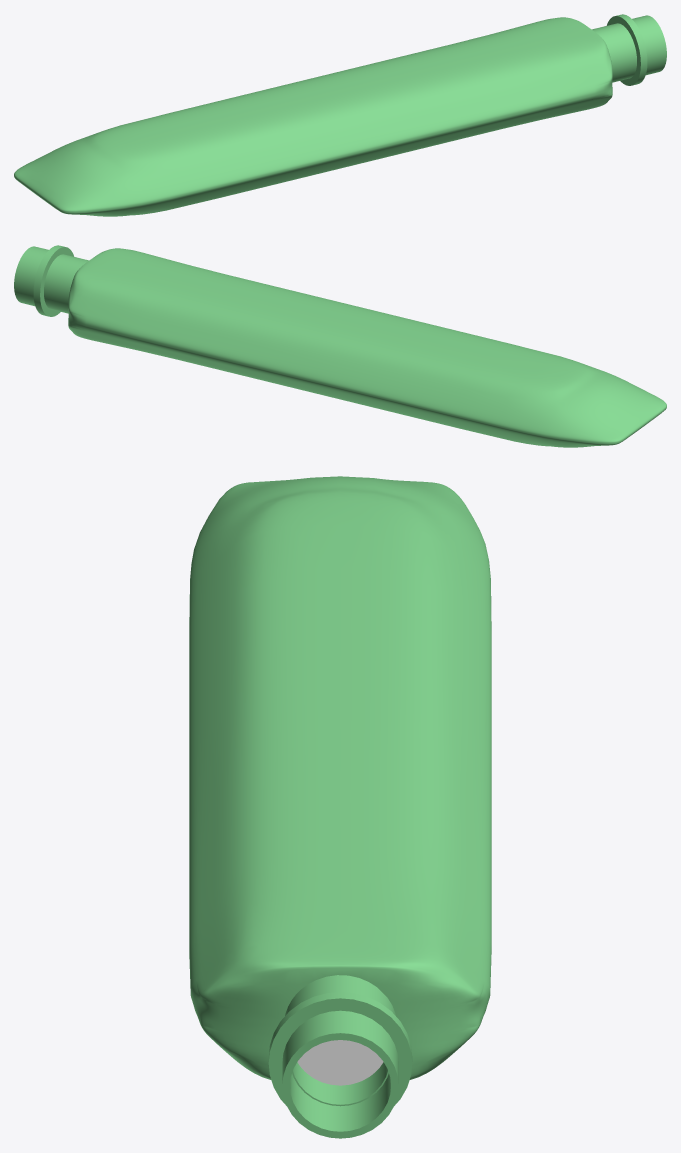
Rendered from 222_でんぷんのり開.glb.
The picture shows the model from 3 angles, top to bottom: view 1: azimuth 30°, elevation 25°; view 2: azimuth 150°, elevation 25°; view 3: azimuth 270°, elevation 25°; orthographic projection. The views are drawn at different scales.
Visible parts, largest first — view 1: body; view 2: body; view 3: body.
Part boxes in pixels (bbox=[...]): body: bbox=[14, 14, 666, 216]; body: bbox=[14, 245, 666, 447]; body: bbox=[189, 476, 491, 1138].
Size of the model in its own units: 0.188 by 0.019 by 0.04.
